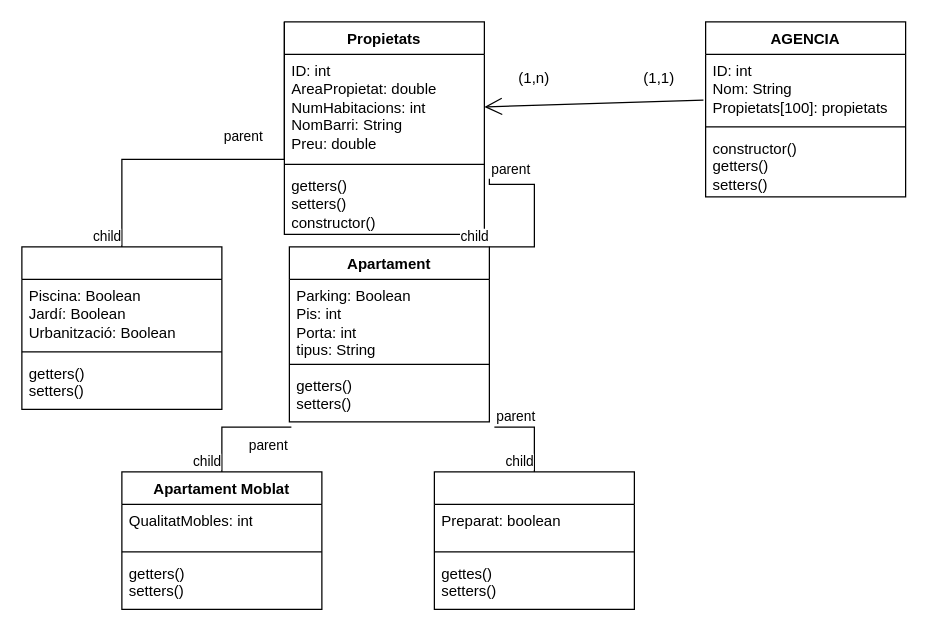
The diagram is 928 pixels wide and 635 high, and some of its shapes have lost their labels. Here are the shapes that lost their labels. From the top down, the box of each, then its label:
(21, 246, 222, 409): Xalet
(433, 471, 634, 609): Apartament Buit
